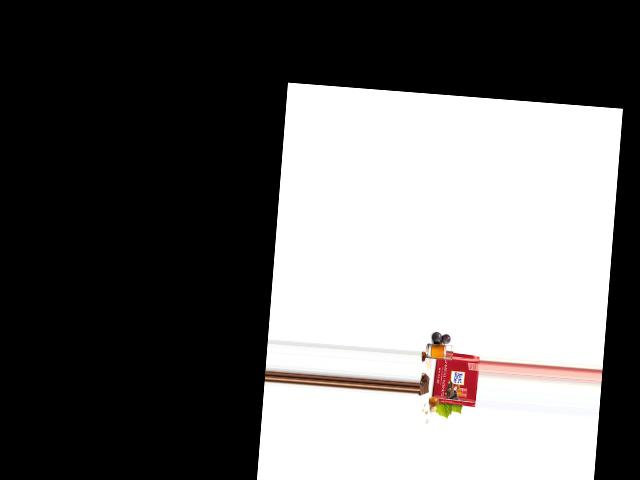chocolate: (431, 352, 479, 408)
